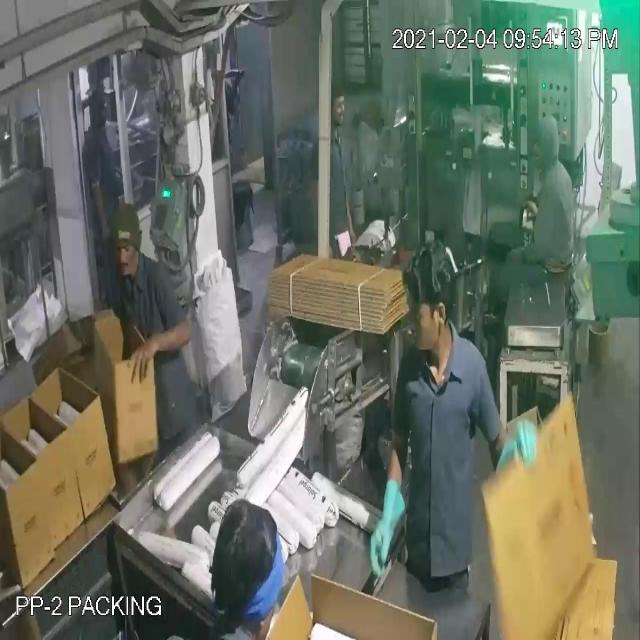gloves: (362, 465, 416, 609)
no-gloves: (128, 314, 195, 378), (86, 172, 114, 254)
